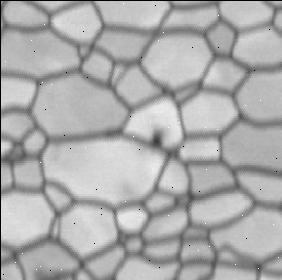good_void: (145, 124, 166, 152)
